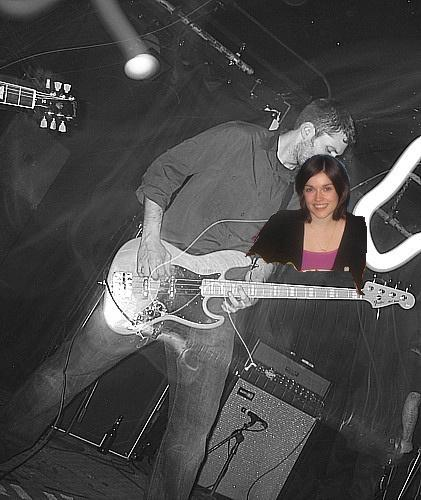tampered: (246, 155, 367, 295)
